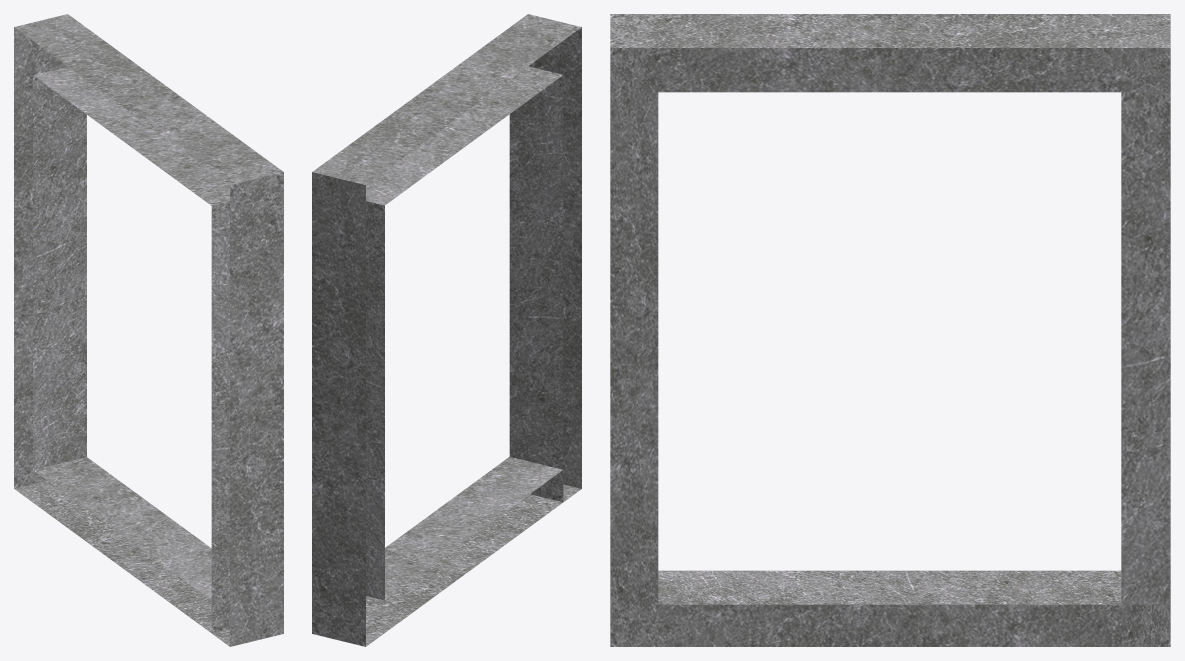
The model's file is Cave.dae.
3 views of the same model, side by side, from view 1: azimuth 30°, elevation 25°; view 2: azimuth 150°, elevation 25°; view 3: azimuth 270°, elevation 25° (orthographic). The views are drawn at different scales.
Parts seen in each view (by area): view 1: Cave; view 2: Cave; view 3: Cave.
Boxes of the visible parts, x1,y1,x2,y2 form: Cave: [14, 14, 283, 646]; Cave: [312, 14, 581, 646]; Cave: [610, 14, 1170, 646].
Size of the model in its own units: 0.4247 by 2.96 by 3.49.
Materials: 1 (1 with a texture image).
